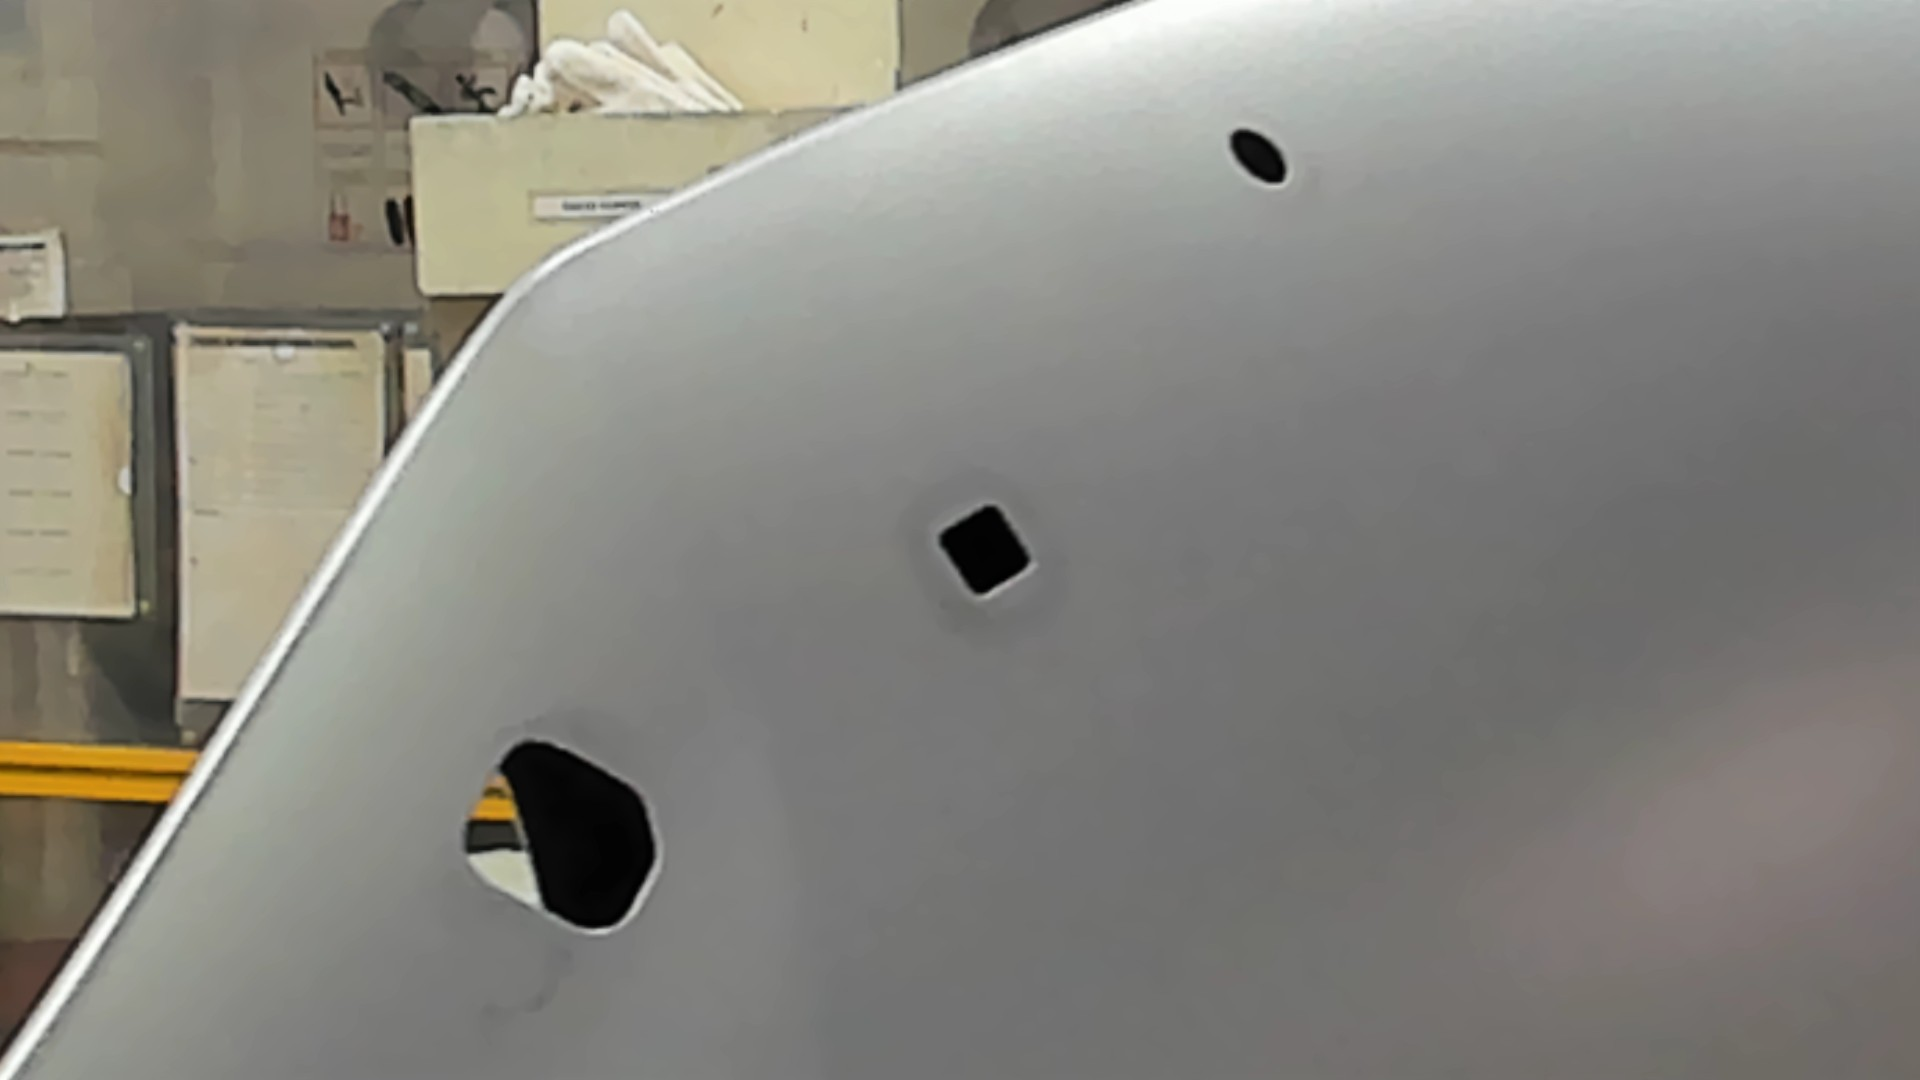capo: (1034, 189, 1920, 1080)
chico: (1226, 124, 1292, 186)
grande: (459, 727, 669, 945)
mediano: (928, 497, 1039, 605)
